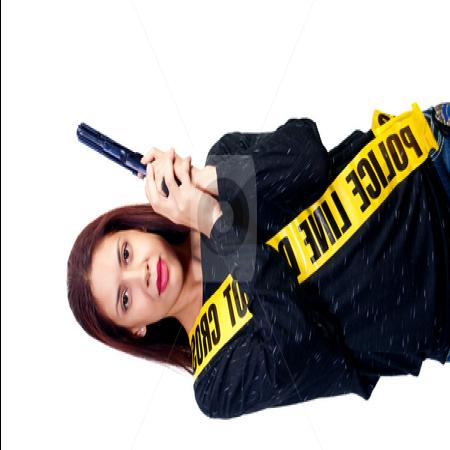Pistol: (72, 119, 185, 199)
